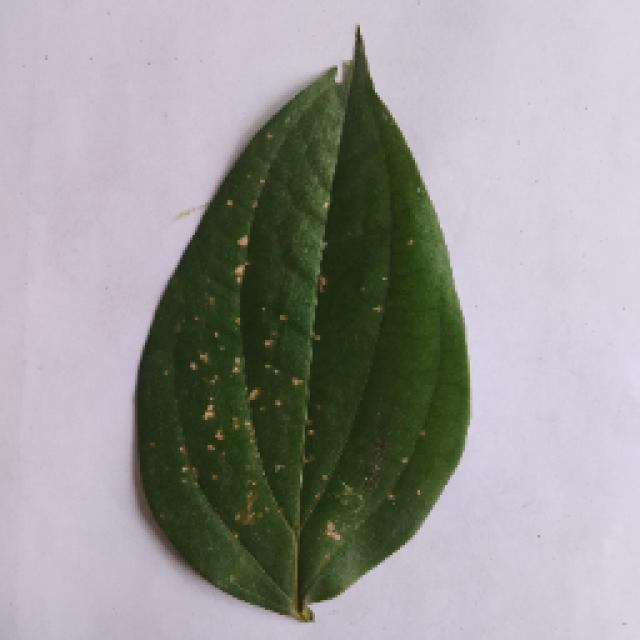pollu-disease: (132, 25, 468, 617)
